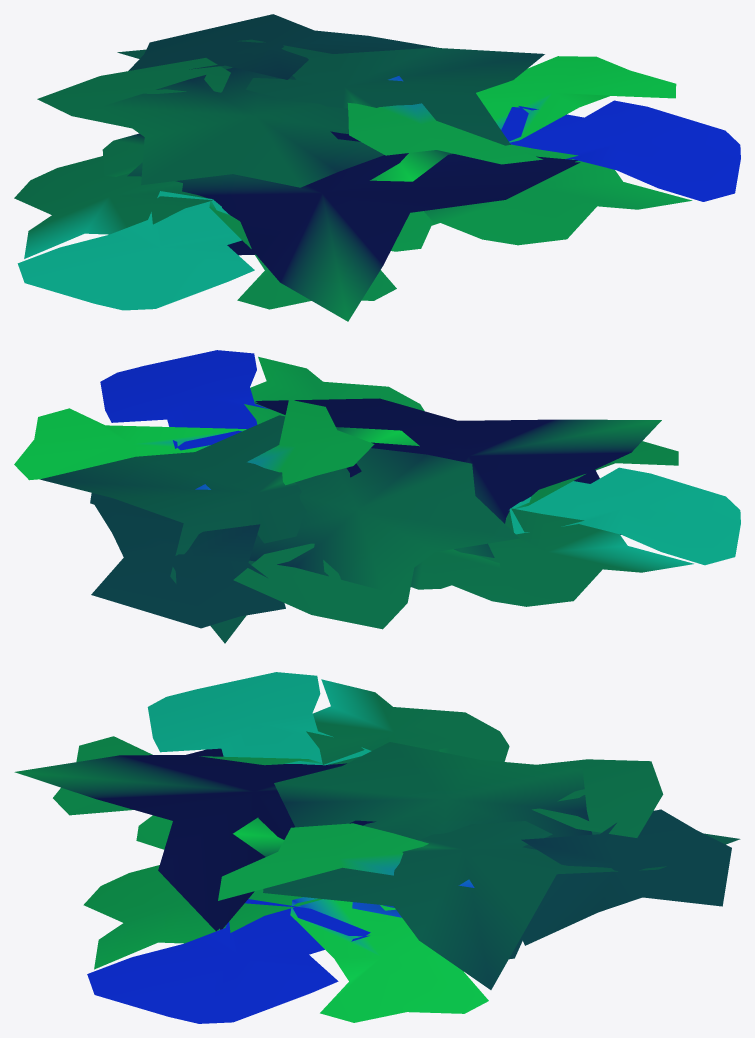
File: Wild_Grass_vdilbaiia_Mid_vdilbaiia_VarI_LOD0.fbx
3 views of the same model, one above another, from view 1: azimuth 30°, elevation 25°; view 2: azimuth 150°, elevation 25°; view 3: azimuth 270°, elevation 25° (orthographic). The views are drawn at different scales.
Parts seen in each view (by area): view 1: _7z14_VarI_LOD1; view 2: _7z14_VarI_LOD1; view 3: _7z14_VarI_LOD1.
Part boxes in pixels (<box>): _7z14_VarI_LOD1: <box>14,14,740,321</box>; _7z14_VarI_LOD1: <box>14,350,740,643</box>; _7z14_VarI_LOD1: <box>14,672,740,1023</box>.
Bounding box in the file's own units: 77.26 × 4.18 × 66.71.
